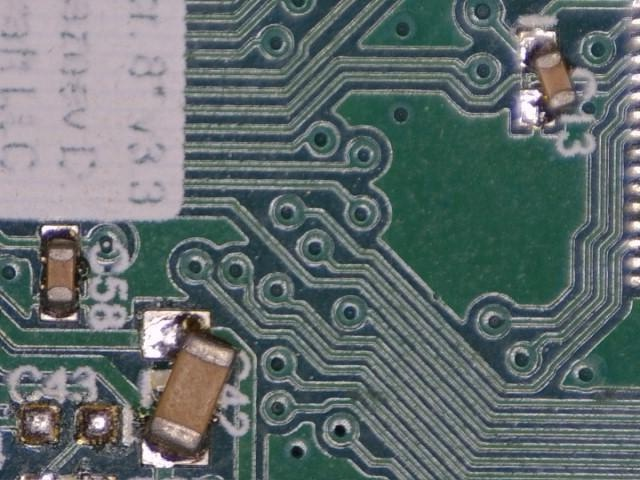pcb_defect: (142, 311, 236, 465), (520, 31, 577, 125)
